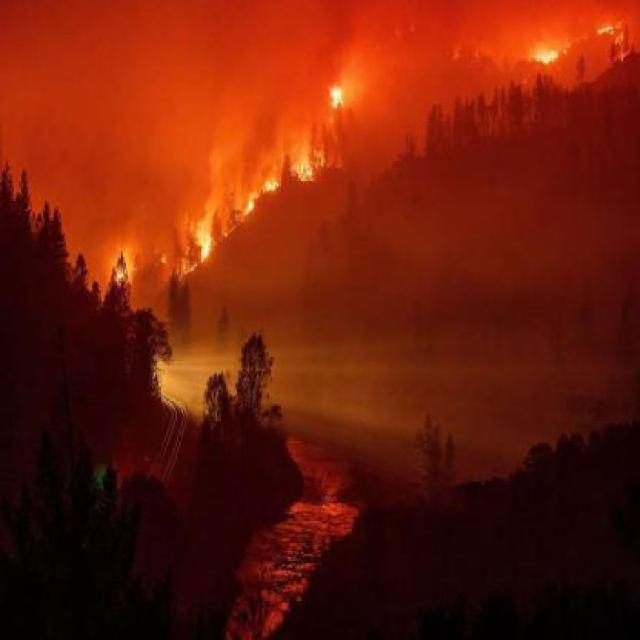Fire: (193, 60, 347, 269), (530, 13, 628, 78)
